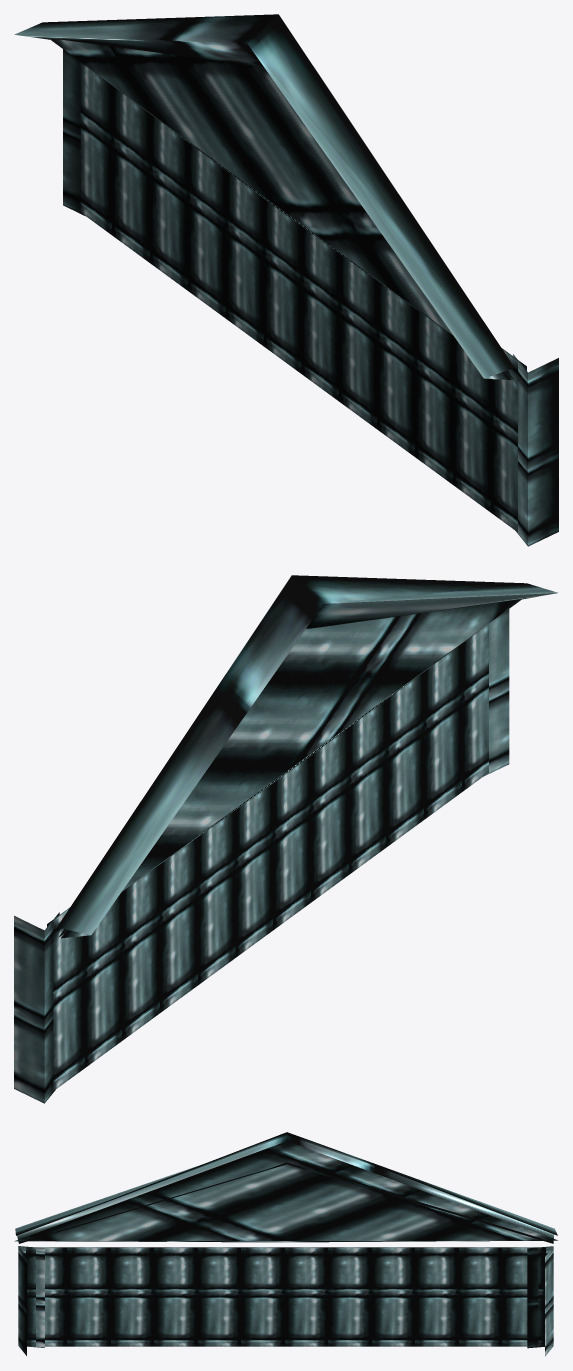
File: Dach_GroßRohreDunkel_492.glb
The picture shows the model from 3 angles, top to bottom: view 1: azimuth 30°, elevation 25°; view 2: azimuth 150°, elevation 25°; view 3: azimuth 270°, elevation 25°; orthographic projection. The views are drawn at different scales.
Parts seen in each view (by area): view 1: pPlaneShape28, pCubeShape75, pTorusShape6, pCylinderShape118, pCylinderShape117; view 2: pPlaneShape28, pCubeShape75, pTorusShape6, pCylinderShape117, pCylinderShape118; view 3: pPlaneShape28, pCubeShape75, pTorusShape6, pCylinderShape117, pCylinderShape118.
Boxes of the visible parts, x1,y1,x2,y2 form: pPlaneShape28: (80,62,526,532); pCubeShape75: (50,39,513,379); pTorusShape6: (14,14,514,379); pCylinderShape118: (513,354,558,546); pCylinderShape117: (63,49,84,215); pPlaneShape28: (47,624,488,1090); pCubeShape75: (58,599,521,937); pTorusShape6: (57,575,557,938); pCylinderShape117: (14,912,59,1103); pCylinderShape118: (483,609,509,776); pPlaneShape28: (26,1247,545,1346); pCubeShape75: (14,1141,557,1242); pTorusShape6: (15,1132,557,1243); pCylinderShape117: (527,1246,553,1356); pCylinderShape118: (18,1246,44,1355).
Bounding box in the file's own units: 0.142 × 0.5743 × 1.35.
5 materials, 5 textured.
